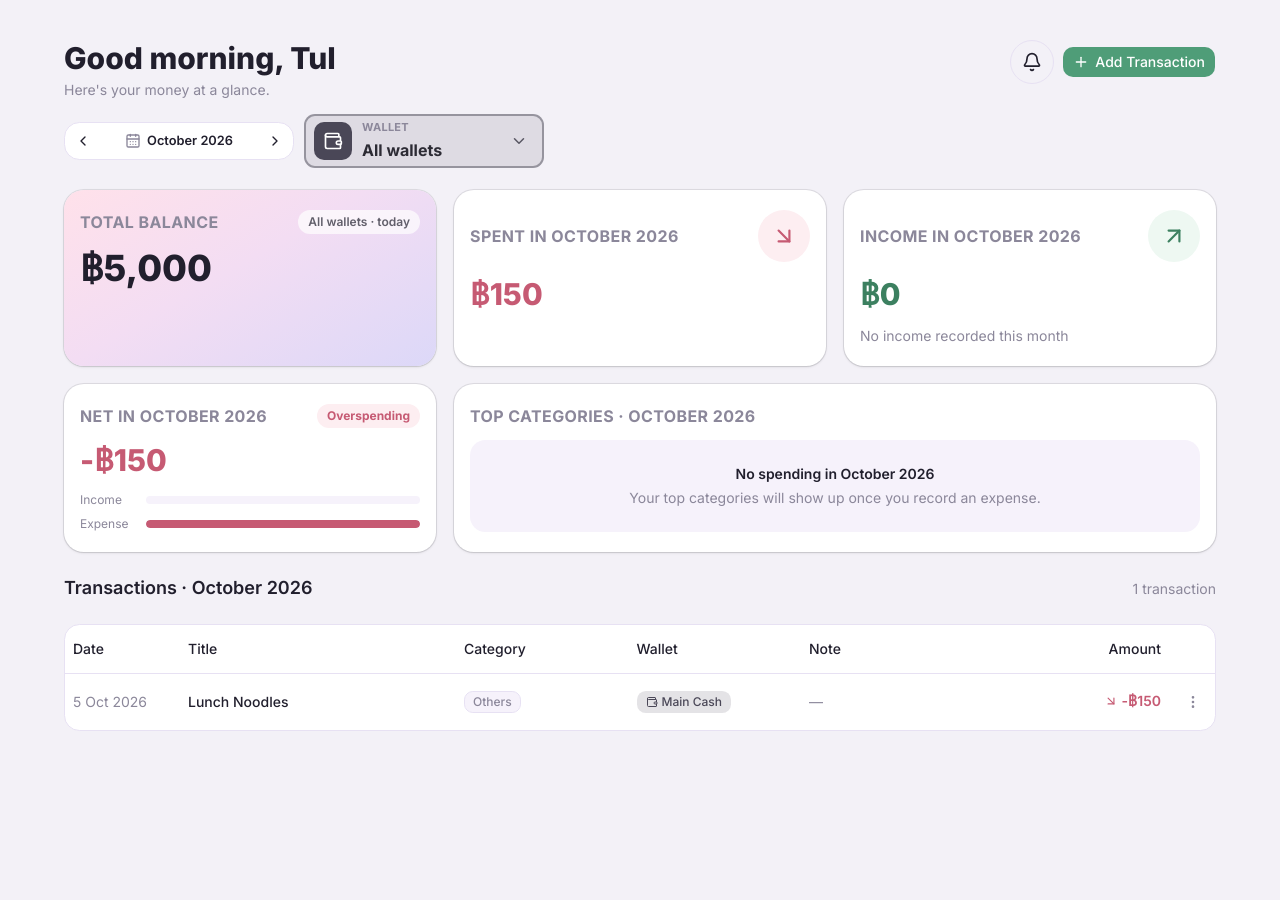
Test: Home — wallet dropdown › groups shared wallets under their own heading and totals only personal ones
The width and height of the screenshot is (1280, 900).
What coordinates should you click on to do the following:
click the button "Wallet All wallets"
I would click on:
 (424, 141)
Its box is x1=304 y1=114 x2=544 y2=168.
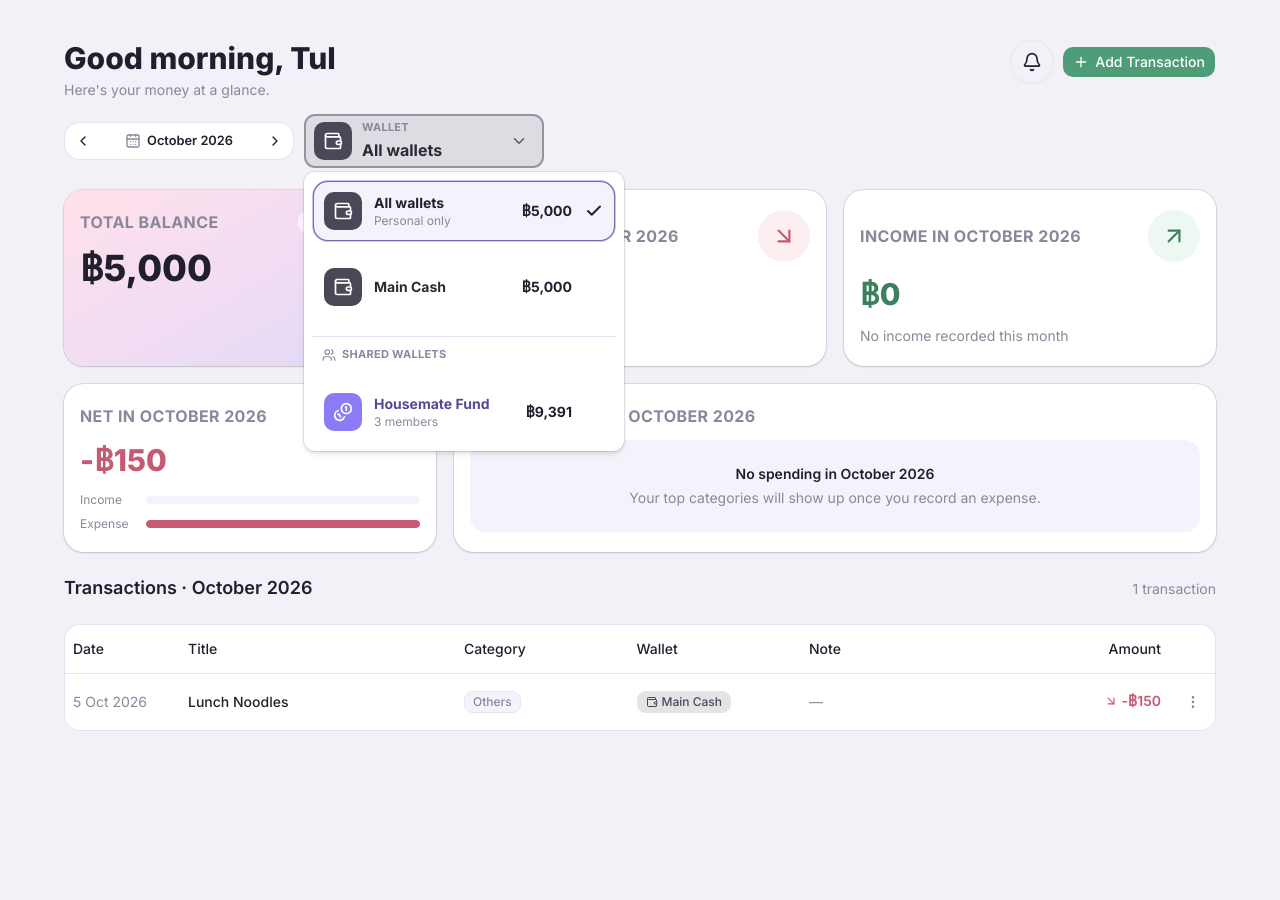
Now the option "All wallets Personal only ฿5,000" is shown, box x1=312 y1=180 x2=616 y2=242
Now the text "Shared wallets" is shown, box x1=312 y1=336 x2=616 y2=367
Now the option "Housemate Fund 3 members ฿9,391" is shown, box x1=312 y1=381 x2=616 y2=443
